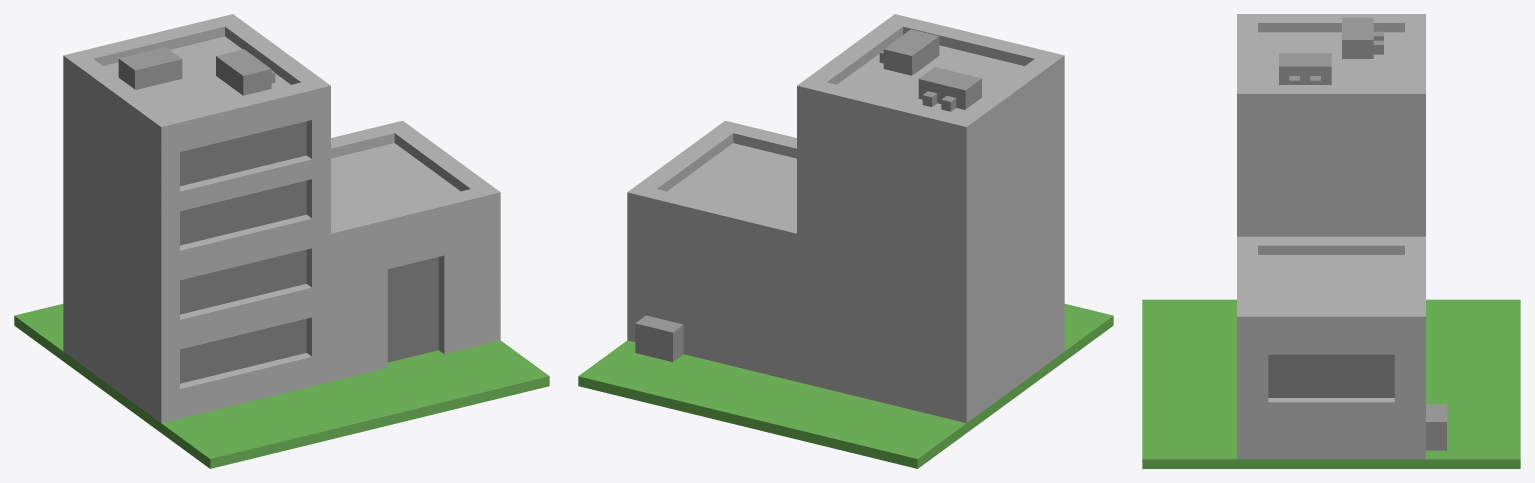
The picture shows the model from 3 angles, left to right: view 1: azimuth 30°, elevation 25°; view 2: azimuth 150°, elevation 25°; view 3: azimuth 270°, elevation 25°; orthographic projection. The views are drawn at different scales.
Parts seen in each view (by area): view 1: 1; view 2: 1; view 3: 1.
Boxes of the visible parts, x1,y1,x2,y2 form: 1: (14, 14, 549, 468); 1: (578, 14, 1113, 468); 1: (1142, 14, 1520, 468).
Size of the model in its own units: 900 by 800 by 900.
